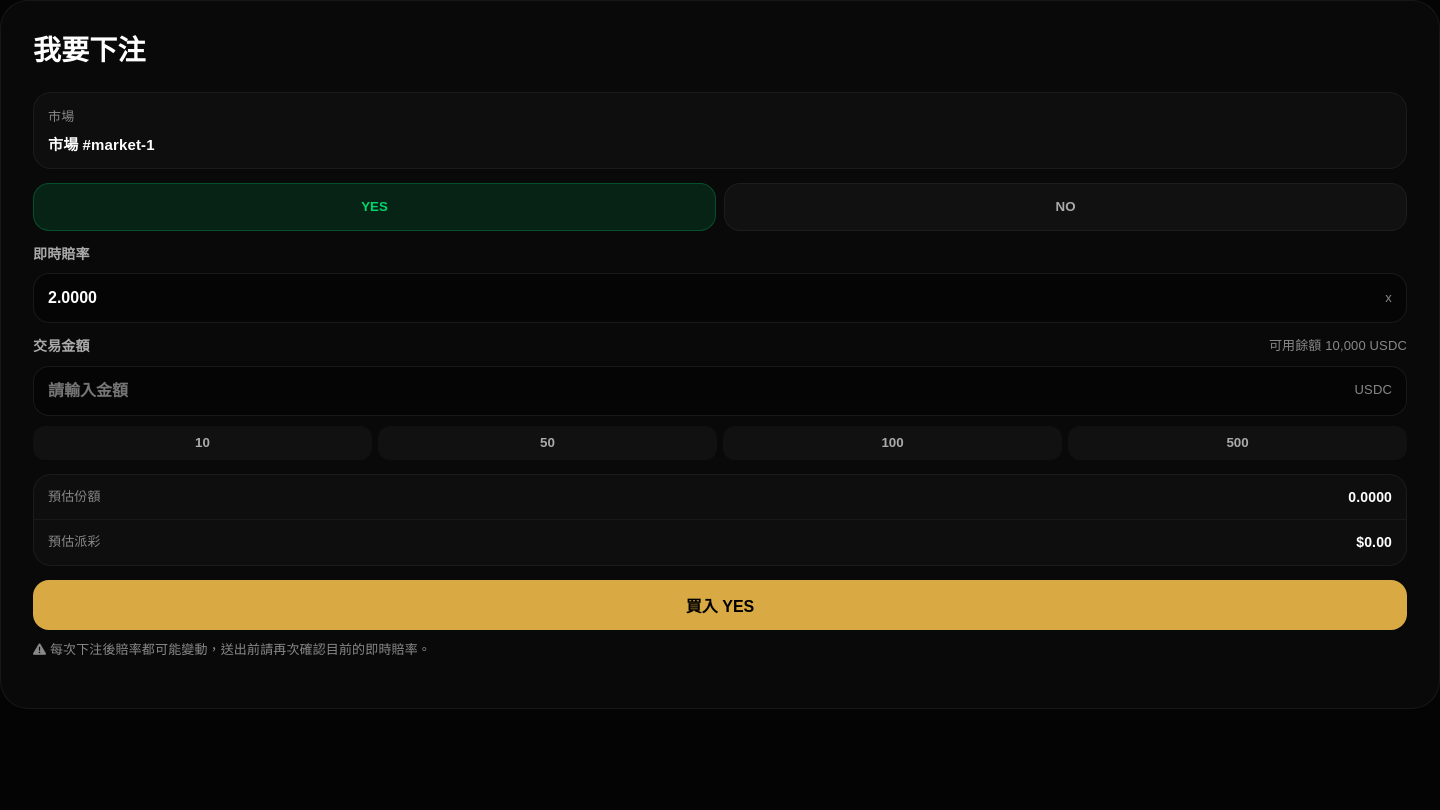
Test: TradePanel › shows refreshed live odds after a successful trade
Step 1. Click the button "10" → (202, 443), box top-left (33, 426), bottom-right (372, 460)
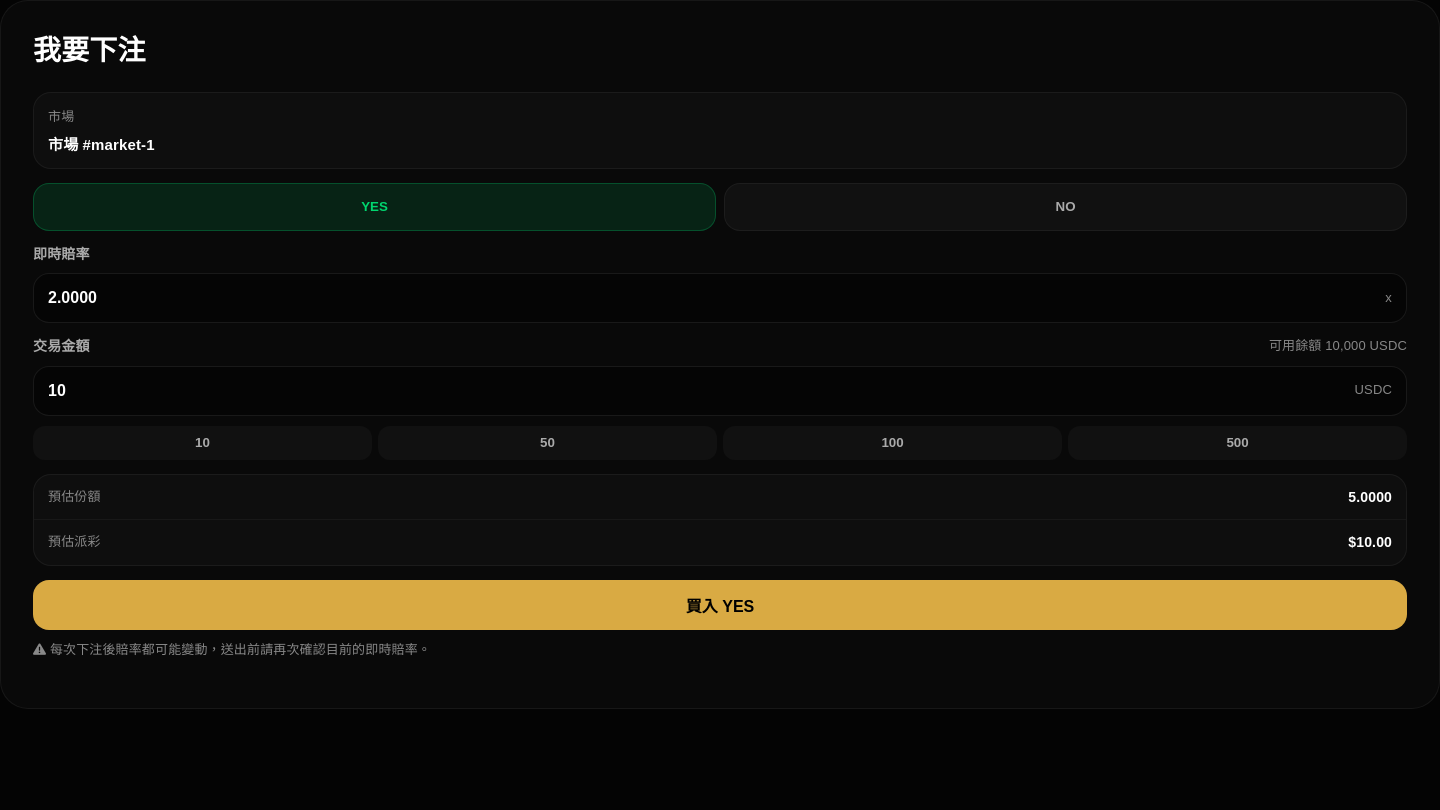
Step 2. Click the button "買入 YES" → (720, 604), box top-left (33, 580), bottom-right (1407, 630)
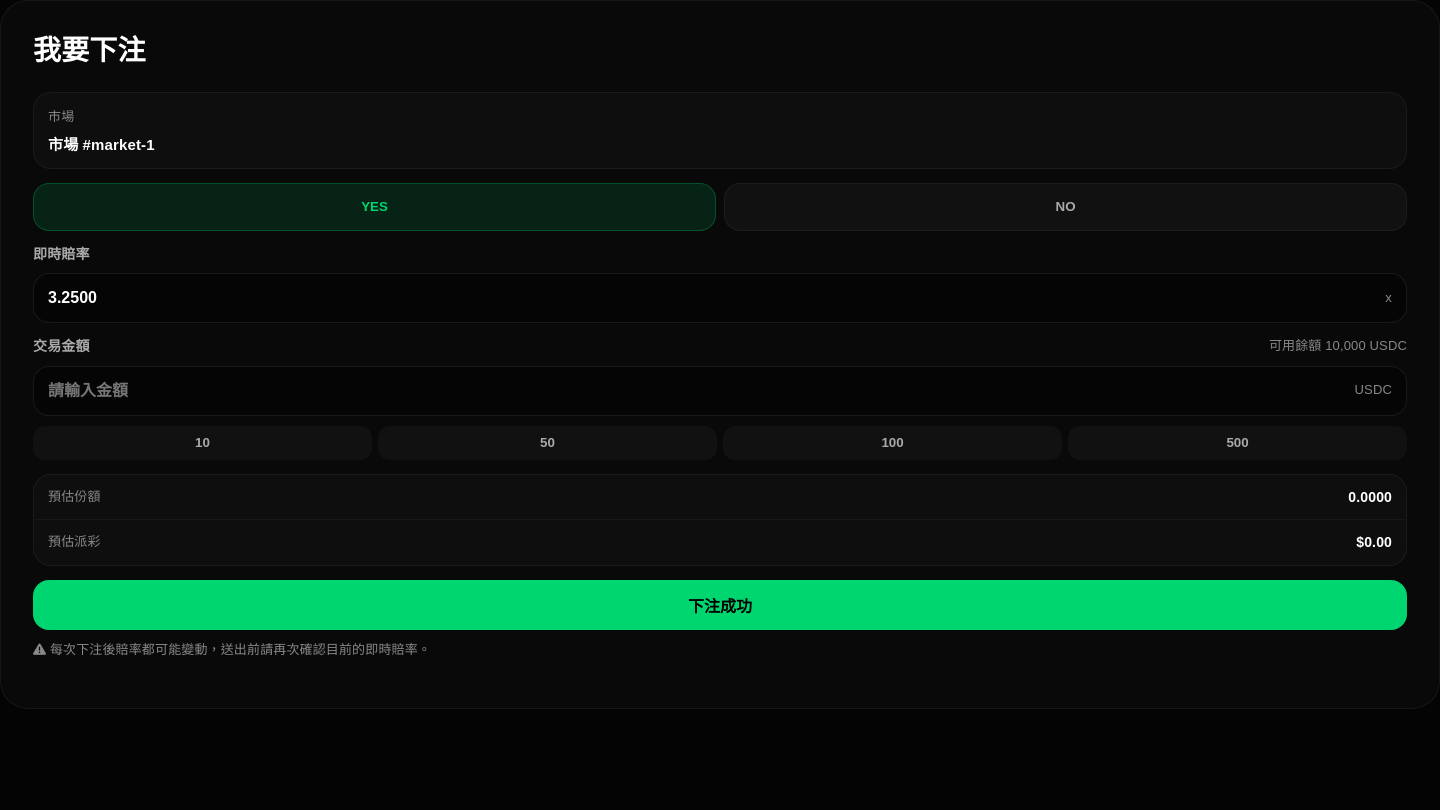
Expected: the field with id "currentOdds" holds "3.2500", top-left (34, 274), bottom-right (1371, 322)
